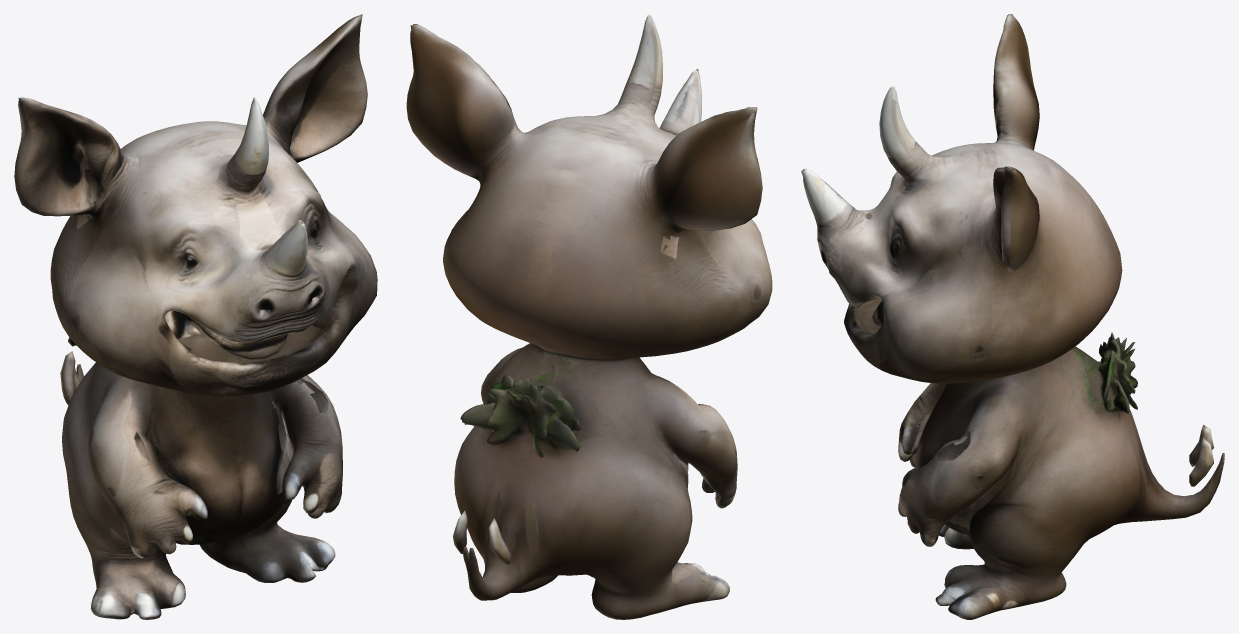
Rendered from bolddy.glb.
3 renders of one model, left to right at view 1: azimuth 30°, elevation 25°; view 2: azimuth 150°, elevation 25°; view 3: azimuth 270°, elevation 25°, orthographic. The views are drawn at different scales.
Size of the model in its own units: 1.39 by 1.98 by 1.57.
1 material, 1 textured.
